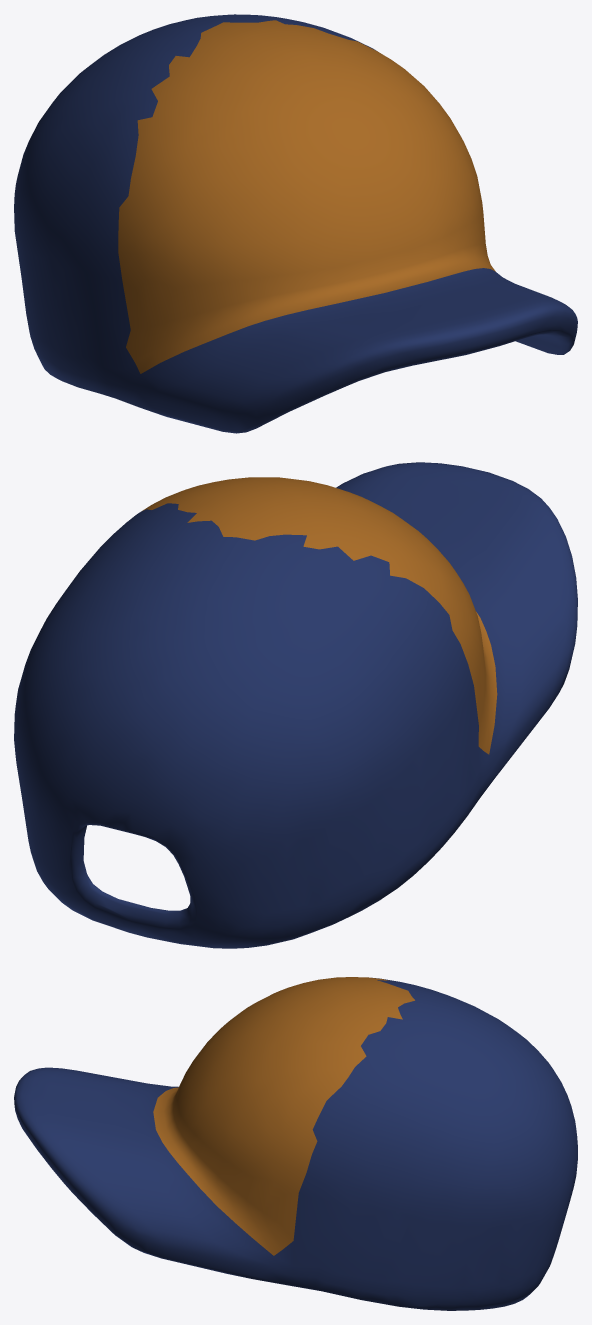
The model's file is headwear-cap-ded53a9c.glb.
3 renders of one model, top to bottom at view 1: azimuth 30°, elevation 25°; view 2: azimuth 150°, elevation 25°; view 3: azimuth 270°, elevation 25°, orthographic. The views are drawn at different scales.
Parts seen in each view (by area): view 1: cap.001; view 2: cap.001; view 3: cap.001.
Boxes of the visible parts, bbox=[...] form: cap.001: bbox=[14, 14, 577, 433]; cap.001: bbox=[14, 462, 577, 948]; cap.001: bbox=[14, 977, 577, 1310].
Bounding box in the file's own units: 1.6 × 1.44 × 2.69.
